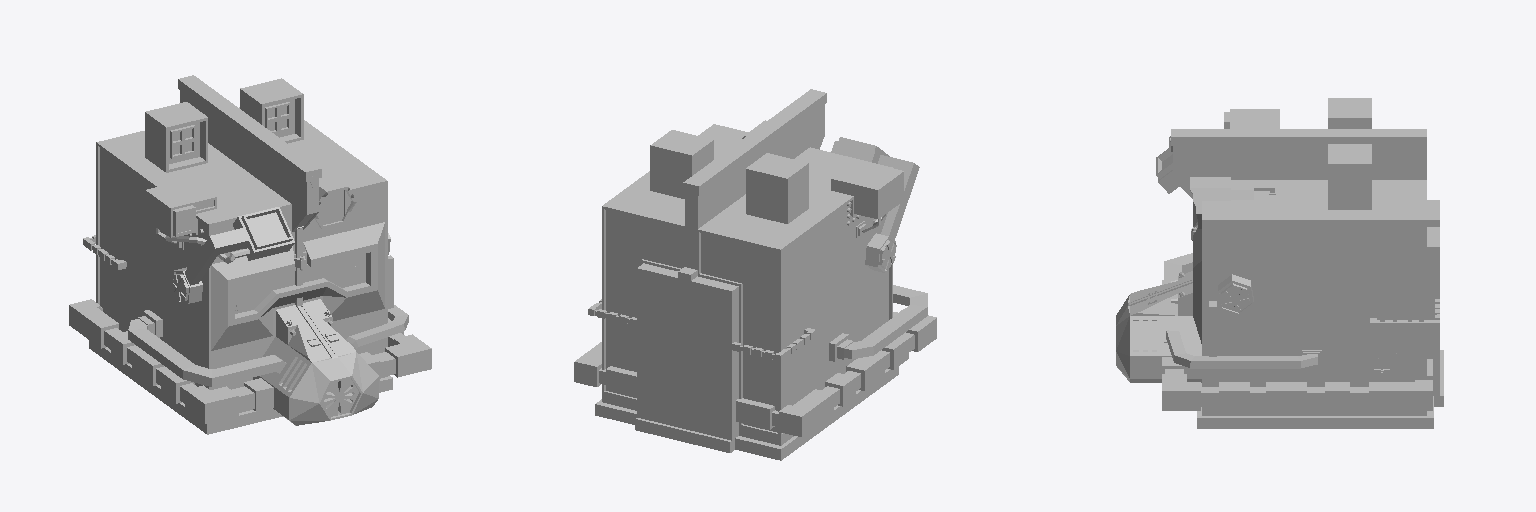
File: t45head.obj
The picture shows the model from 3 angles: view 1: azimuth 30°, elevation 25°; view 2: azimuth 150°, elevation 25°; view 3: azimuth 270°, elevation 25°; orthographic projection.
Parts seen in each view (by area): view 1: Mesh141 Model, Mesh58 TubeR1 Model, Mesh78 TubeR2 Model, Mesh11 Group2 Model, Mesh44 Group7 Model; view 2: Mesh141 Model, Mesh58 TubeR1 Model, Mesh78 TubeR2 Model, Mesh44 Group7 Model, Mesh121 TubeR4 Model; view 3: Mesh141 Model, Mesh78 TubeR2 Model, Mesh11 Group2 Model, Mesh49 Group8 Model, Mesh101 TubeR3 Model.
Boxes of the visible parts, <box> form: Mesh141 Model: <box>89,75,408,434</box>; Mesh58 TubeR1 Model: <box>69,299,273,423</box>; Mesh78 TubeR2 Model: <box>359,318,431,381</box>; Mesh11 Group2 Model: <box>314,170,356,228</box>; Mesh44 Group7 Model: <box>172,267,202,303</box>; Mesh141 Model: <box>595,89,927,460</box>; Mesh58 TubeR1 Model: <box>606,309,936,436</box>; Mesh78 TubeR2 Model: <box>574,342,774,429</box>; Mesh44 Group7 Model: <box>865,233,896,272</box>; Mesh121 TubeR4 Model: <box>732,328,815,361</box>; Mesh141 Model: <box>1116,98,1443,428</box>; Mesh78 TubeR2 Model: <box>1162,357,1432,410</box>; Mesh11 Group2 Model: <box>1190,177,1253,228</box>; Mesh49 Group8 Model: <box>1218,274,1253,314</box>; Mesh101 TubeR3 Model: <box>1370,299,1439,328</box>.
Size of the model in its own units: 1239 by 1283 by 1507.